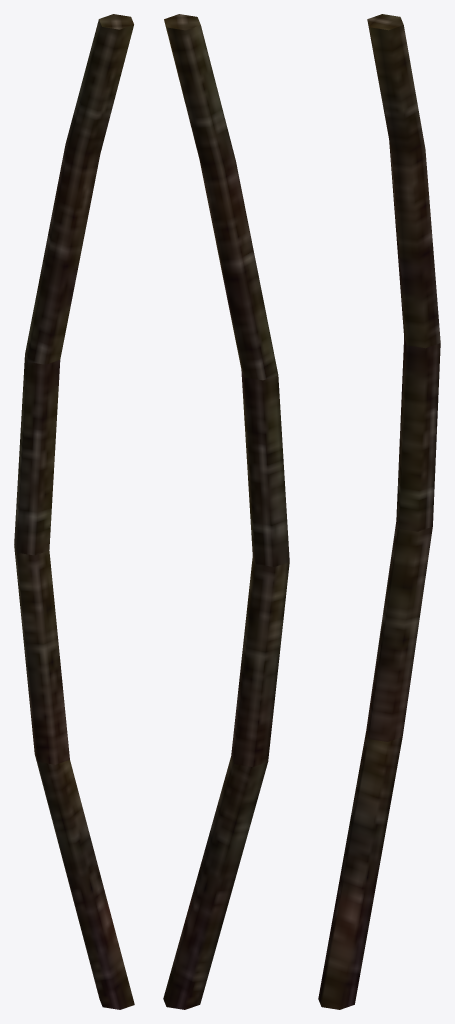
File: rebar001b_48.glb
3 views of the same model, side by side, from view 1: azimuth 30°, elevation 25°; view 2: azimuth 210°, elevation 25°; view 3: azimuth 270°, elevation 25° (orthographic). The views are drawn at different scales.
Visible parts, largest first — view 1: 0_rebar_concrete001; view 2: 0_rebar_concrete001; view 3: 0_rebar_concrete001.
Boxes of the visible parts, x1,y1,x2,y2 form: 0_rebar_concrete001: (14,14,134,1009); 0_rebar_concrete001: (163,14,289,1009); 0_rebar_concrete001: (318,14,440,1009).
Size of the model in its own units: 0.1371 by 1.22 by 0.1365.
Materials: 1 (1 with a texture image).
